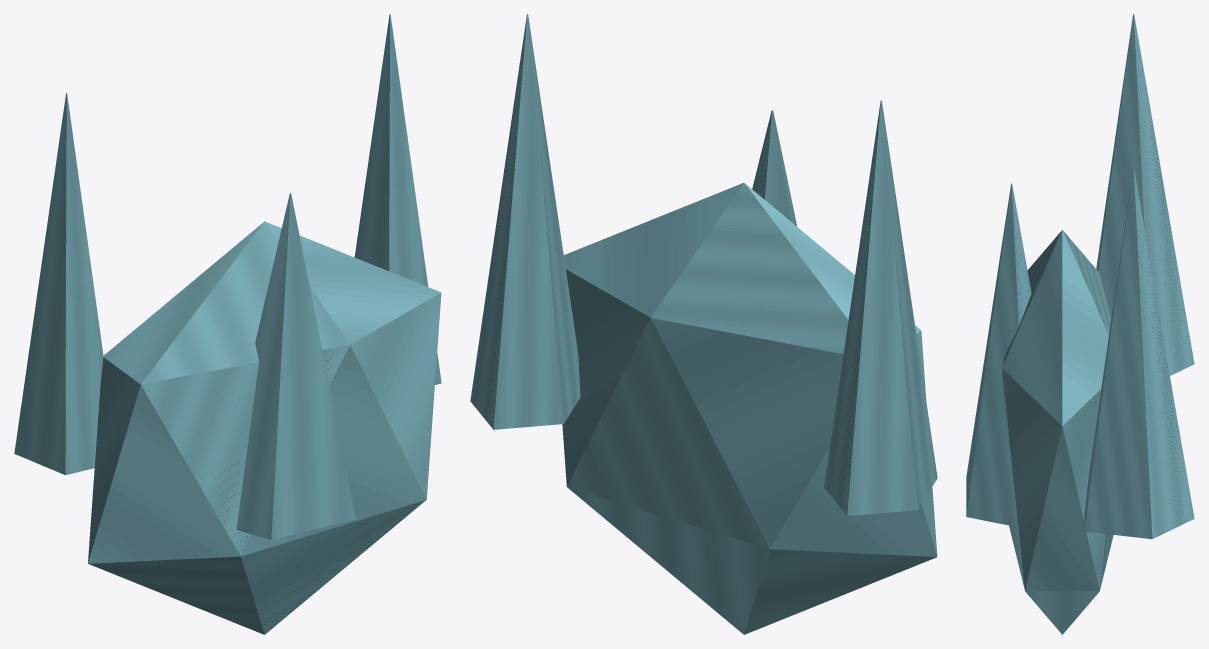
File: last_echo.glb
The picture shows the model from 3 angles, left to right: view 1: azimuth 30°, elevation 25°; view 2: azimuth 150°, elevation 25°; view 3: azimuth 270°, elevation 25°; orthographic projection. The views are drawn at different scales.
Parts seen in each view (by area): view 1: gear_last_echo; view 2: gear_last_echo; view 3: gear_last_echo.
Part boxes in pixels (x1=…): gear_last_echo: x1=14, y1=14, x2=441, y2=634; gear_last_echo: x1=470, y1=14, x2=937, y2=634; gear_last_echo: x1=966, y1=14, x2=1194, y2=634.
Size of the model in its own units: 0.4551 by 0.59 by 0.2245.
Materials: 1 (1 with a texture image).
